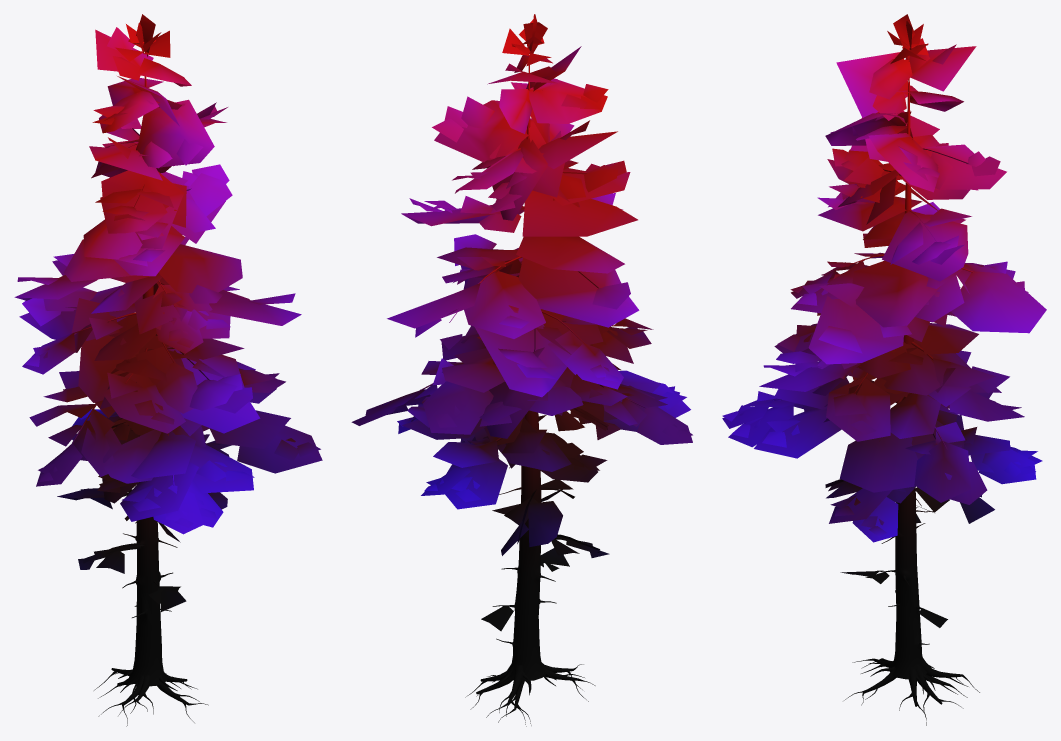
The model's file is Fir_07_Forest_advanced.FBX.
3 views of the same model, side by side, from view 1: azimuth 30°, elevation 25°; view 2: azimuth 150°, elevation 25°; view 3: azimuth 270°, elevation 25° (orthographic).
Visible parts, largest first — view 1: Fir_07_leaves_LOD0, Fir_07_bark_LOD0; view 2: Fir_07_leaves_LOD0, Fir_07_bark_LOD0; view 3: Fir_07_leaves_LOD0, Fir_07_bark_LOD0.
Part boxes in pixels (bbox=[...]): Fir_07_leaves_LOD0: bbox=[14, 14, 322, 611]; Fir_07_bark_LOD0: bbox=[72, 76, 208, 726]; Fir_07_leaves_LOD0: bbox=[351, 14, 692, 631]; Fir_07_bark_LOD0: bbox=[414, 65, 646, 726]; Fir_07_leaves_LOD0: bbox=[722, 14, 1046, 627]; Fir_07_bark_LOD0: bbox=[772, 61, 1028, 725].
Size of what is drawn, in the model's own units: 9438 by 21896 by 9422.
